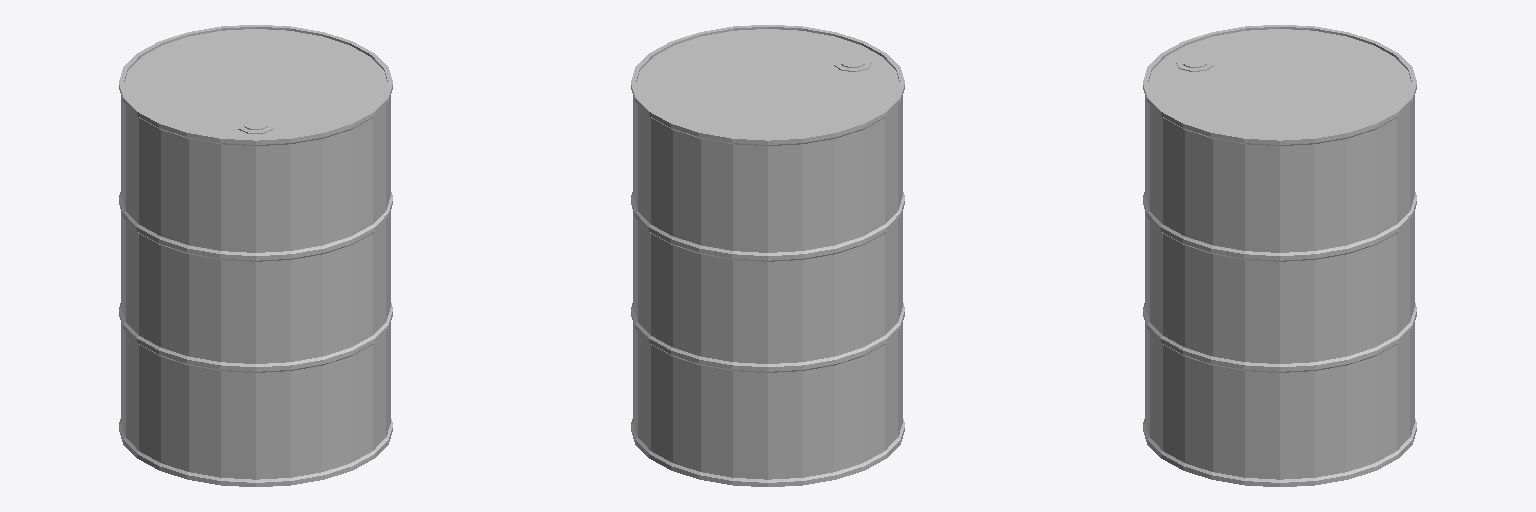
Rendered from oilbarrel.obj.
The picture shows the model from 3 angles: view 1: azimuth 30°, elevation 25°; view 2: azimuth 150°, elevation 25°; view 3: azimuth 270°, elevation 25°; orthographic projection.
Parts seen in each view (by area): view 1: Barrel02_1 Mesh2 Model polySurface641 polySurface642 polySurface; view 2: Barrel02_1 Mesh2 Model polySurface641 polySurface642 polySurface; view 3: Barrel02_1 Mesh2 Model polySurface641 polySurface642 polySurface.
Part boxes in pixels (bbox=[...]): Barrel02_1 Mesh2 Model polySurface641 polySurface642 polySurface: bbox=[119, 25, 392, 486]; Barrel02_1 Mesh2 Model polySurface641 polySurface642 polySurface: bbox=[631, 25, 904, 486]; Barrel02_1 Mesh2 Model polySurface641 polySurface642 polySurface: bbox=[1143, 25, 1416, 486].
Size of the model in its own units: 1.92 by 2.67 by 1.92.